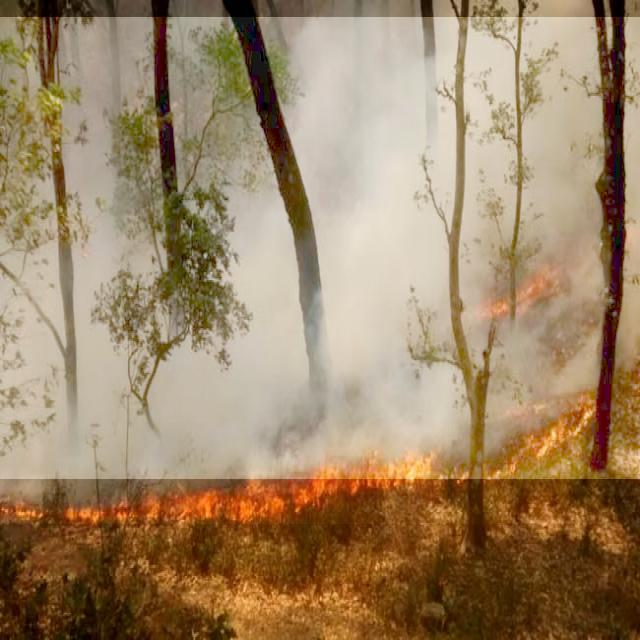Fire: (0, 397, 615, 524), (450, 265, 567, 347)
Smoke: (0, 17, 640, 479)
